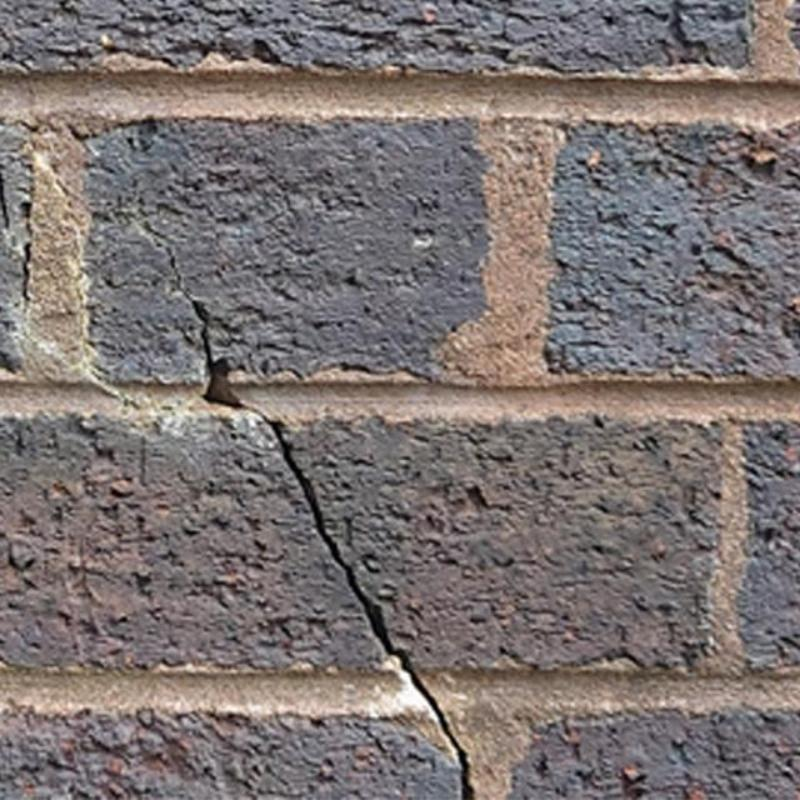pothole: (191, 301, 476, 800)
